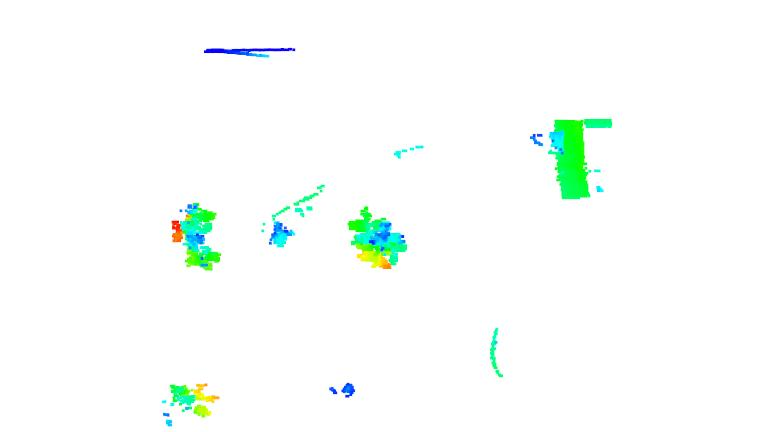chickpea: (342, 208, 419, 268), (165, 198, 225, 273), (155, 374, 230, 425), (261, 203, 319, 250)
